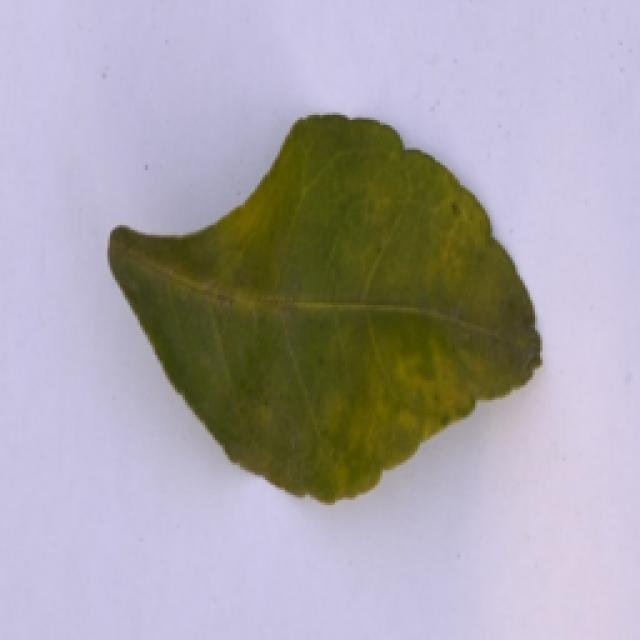greening: (86, 92, 550, 533)
